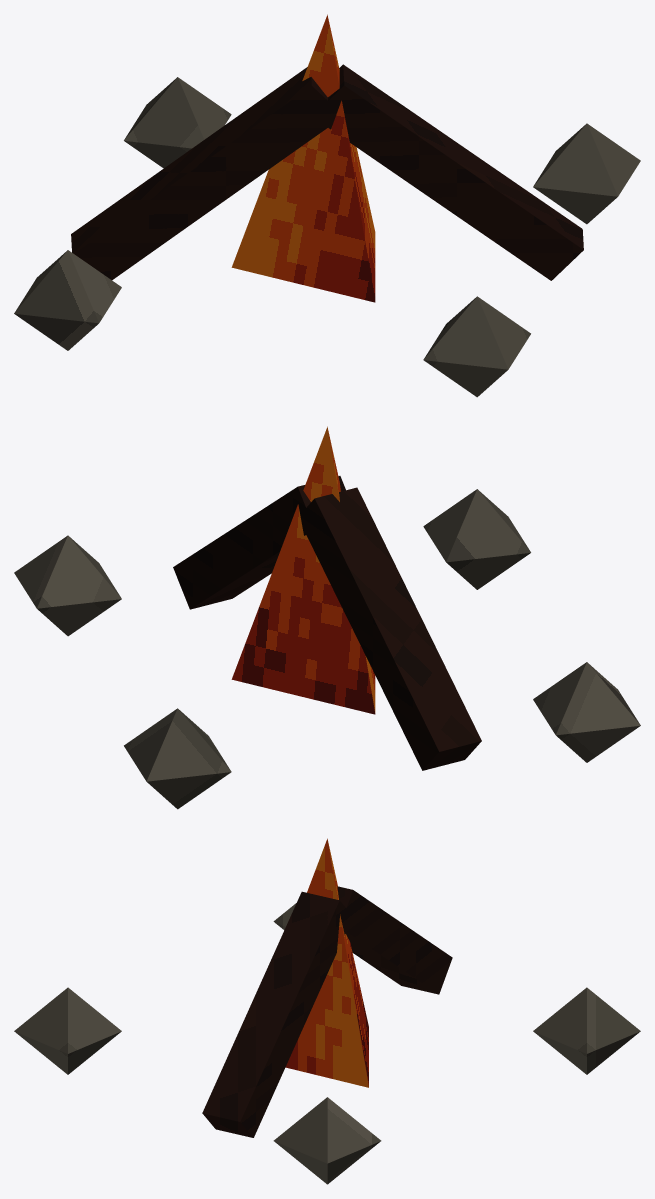
File: fogata.glb
3 views of the same model, one above another, from view 1: azimuth 30°, elevation 25°; view 2: azimuth 150°, elevation 25°; view 3: azimuth 270°, elevation 25° (orthographic). The views are drawn at different scales.
Visible parts, largest first — view 1: lena, piedras, fuego; view 2: lena, piedras, fuego; view 3: lena, piedras, fuego.
Part boxes in pixels (<box>): lena: <box>71,64,583,280</box>; piedras: <box>14,77,640,397</box>; fuego: <box>231,14,375,302</box>; lena: <box>173,476,481,770</box>; piedras: <box>14,489,640,809</box>; fuego: <box>231,426,375,714</box>; lena: <box>202,886,452,1137</box>; piedras: <box>14,903,640,1184</box>; fuego: <box>285,838,368,1087</box>.
Bounding box in the file's own units: 1.2 × 0.5 × 1.2.
Materials: 1 (1 with a texture image).
